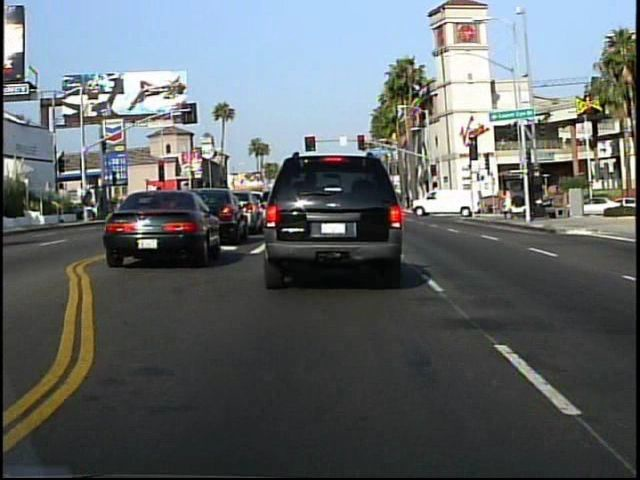person: (498, 183, 515, 221)
